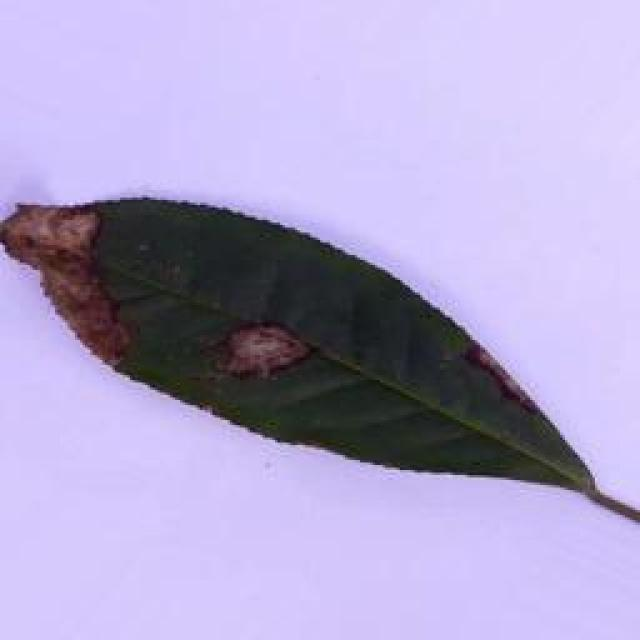Gray Blight: (0, 187, 640, 537)
